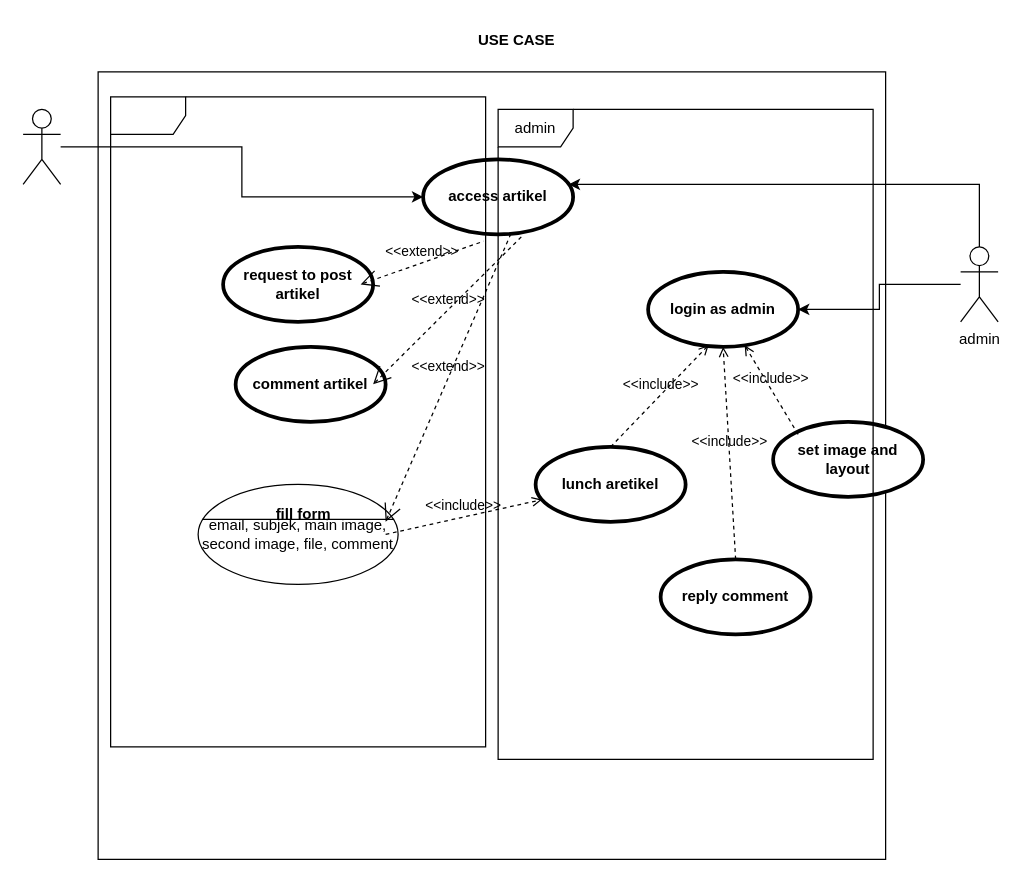
The diagram is 1021 pixels wide and 881 high, and some of its shapes have lost their labels. The box of each missing label's shape, as (x1, y1, x2, y2) in pixels:
frame: (109, 96, 486, 747)
Guest: (22, 108, 61, 184)
